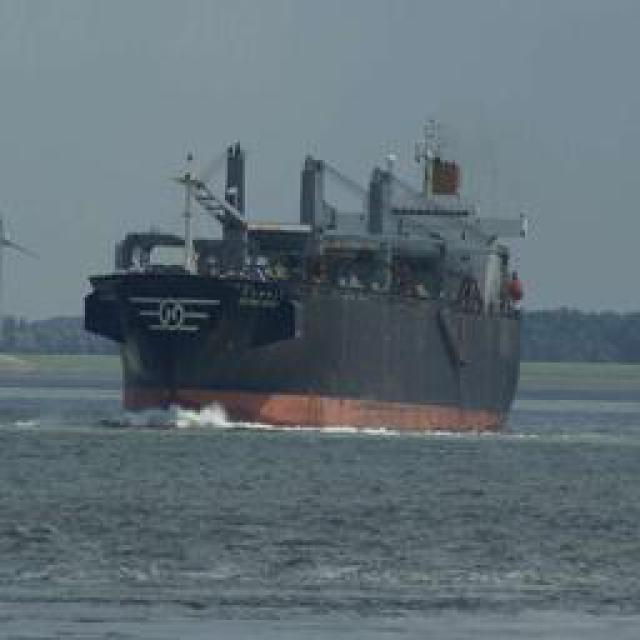Ship: (81, 112, 541, 420)
